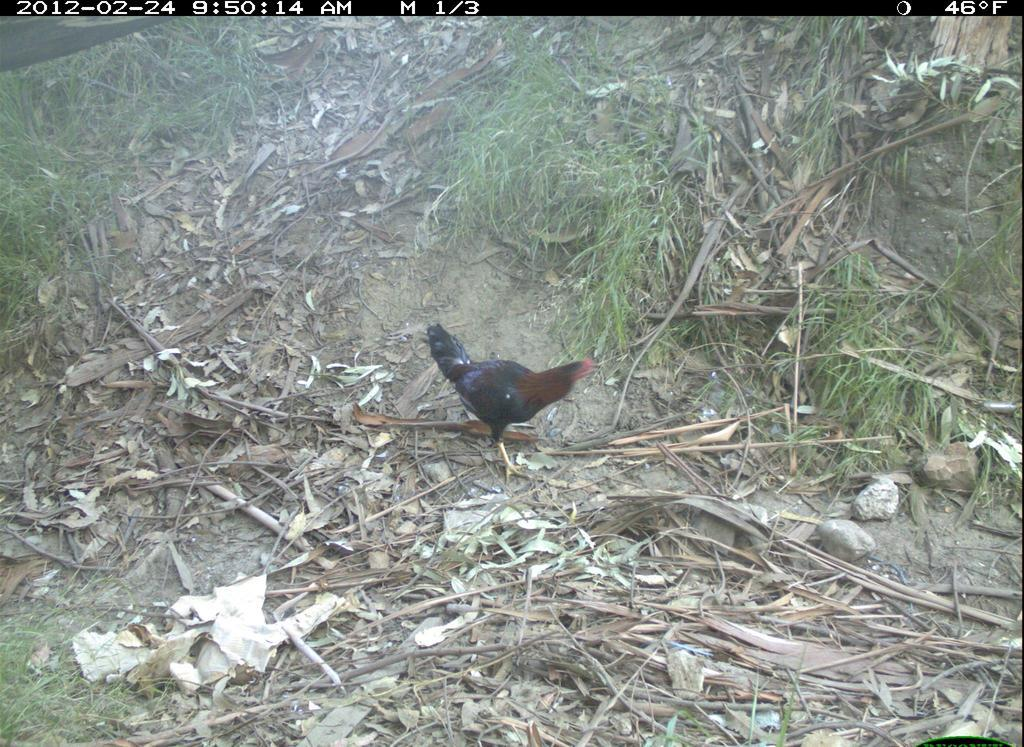bird: (415, 312, 603, 473)
